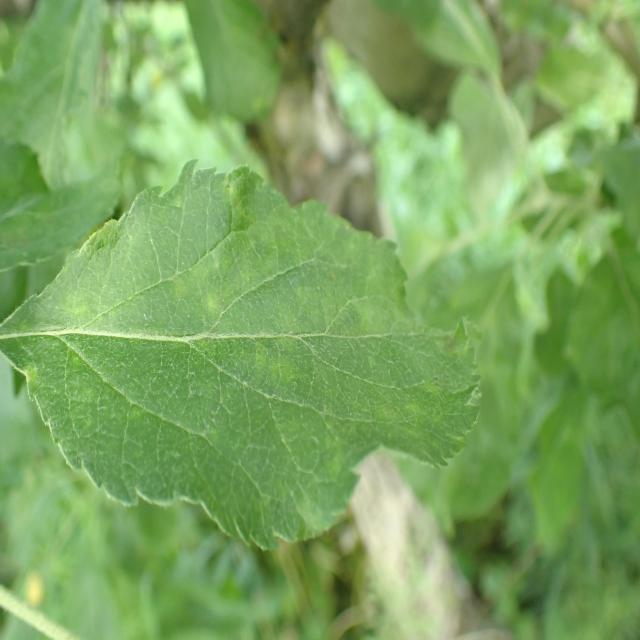scab: (42, 178, 468, 525)
